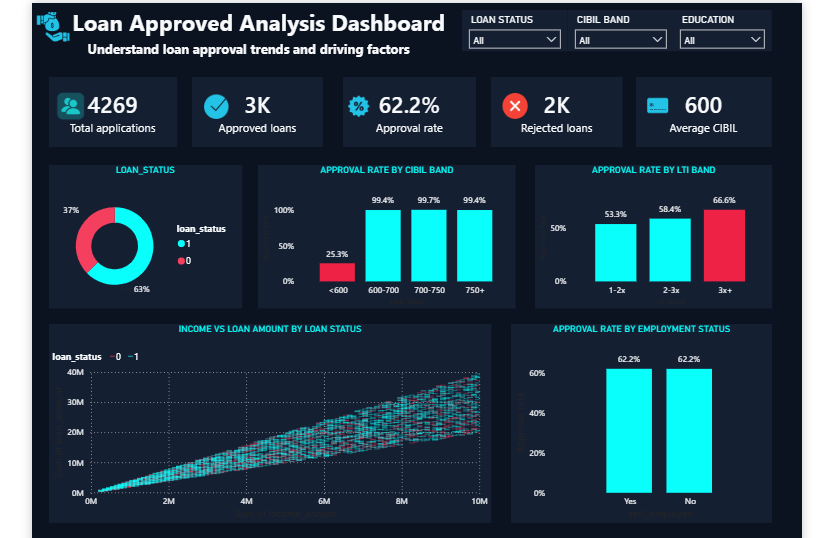

This screenshot's page, from the dashboard's own definition file:
{"tool":"powerbi","page":{"name":"Page 1","canvas":[1100,790],"ordinal":0},"visuals":[{"type":"donutChart","title":"LOAN_STATUS","fields":{"Y":["Sum(loan_cleaned.loan_id)"],"Category":["loan_cleaned.loan_status"]},"box":[24.5,230.9,275.5,205.3],"z":0},{"type":"columnChart","title":"APPROVAL RATE BY CIBIL BAND","fields":{"Category":["loan_cleaned.cibil_band"],"Y":["loan_cleaned.Approval rate"]},"box":[322.3,230.9,368.1,205.3],"z":1000},{"type":"columnChart","title":"APPROVAL RATE BY LTI BAND","fields":{"Category":["loan_cleaned.lti_band"],"Y":["loan_cleaned.Approval rate"]},"box":[718.1,230.9,339.4,205.3],"z":2000},{"type":"scatterChart","title":"INCOME VS LOAN AMOUNT BY LOAN STATUS","fields":{"X":["Sum(loan_cleaned.income_annum)"],"Y":["Sum(loan_cleaned.loan_amount)"],"Series":["loan_cleaned.loan_status"],"Category":["loan_cleaned.loan_id"]},"box":[24.5,458.5,631.9,284],"z":3000},{"type":"columnChart","title":"APPROVAL RATE BY EMPLOYMENT STATUS","fields":{"Category":["loan_cleaned.self_employed"],"Y":["loan_cleaned.Approval rate"]},"box":[684.1,458.7,373,284.1],"z":4000},{"type":"cardVisual","fields":{"Data":["loan_cleaned.Total applications"]},"box":[23.8,106.3,183,100],"z":5000},{"type":"cardVisual","fields":{"Data":["loan_cleaned.Approved loans"]},"box":[228.6,106.3,187.2,100],"z":6000},{"type":"cardVisual","fields":{"Data":["loan_cleaned.Rejected loans"]},"box":[655.6,106.3,188.3,100],"z":7000},{"type":"cardVisual","fields":{"Data":["loan_cleaned.Approval rate"]},"box":[444.4,106.3,190.4,100],"z":8000},{"type":"cardVisual","fields":{"Data":["loan_cleaned.Average CIBIL"]},"box":[863.5,106.3,193.6,100],"z":9000},{"type":"textbox","box":[0,0,614.3,95.2],"z":10000},{"type":"slicer","fields":{"Values":["loan_cleaned.loan_status"]},"box":[614.3,9.5,150.8,58.7],"z":11000},{"type":"slicer","fields":{"Values":["loan_cleaned.education"]},"box":[915.9,9.5,141.3,58.7],"z":12000},{"type":"slicer","fields":{"Values":["loan_cleaned.cibil_band"]},"box":[765.1,9.5,150.8,58.7],"z":13000},{"type":"image","box":[23.8,123.8,61.9,46],"z":13001},{"type":"image","box":[666.7,128.6,46,36.5],"z":13003},{"type":"image","box":[444.4,130.2,44.4,34.9],"z":13004},{"type":"image","box":[863.5,131.7,61.9,30.2],"z":13005},{"type":"image","box":[244.4,127,38.1,41.3],"z":13006},{"type":"image","box":[6.3,9.5,49.2,47.6],"z":13007},{"type":"textbox","box":[74.6,47.6,507.9,47.6],"z":13008}]}

Visuals, with their boxes on the page's 1100x790 design canvas (x1, y1, x2, y2). These are canvas units, not pixel positions in the 826x538 screenshot, which may show the page scaled, cropped or inside an application window:
"LOAN_STATUS" donutChart: 24 231 300 436
"APPROVAL RATE BY CIBIL BAND" columnChart: 322 231 690 436
"APPROVAL RATE BY LTI BAND" columnChart: 718 231 1058 436
"INCOME VS LOAN AMOUNT BY LOAN STATUS" scatterChart: 24 458 656 742
"APPROVAL RATE BY EMPLOYMENT STATUS" columnChart: 684 459 1057 743
cardVisual - loan_cleaned.Total applications: 24 106 207 206
cardVisual - loan_cleaned.Approved loans: 229 106 416 206
cardVisual - loan_cleaned.Rejected loans: 656 106 844 206
cardVisual - loan_cleaned.Approval rate: 444 106 635 206
cardVisual - loan_cleaned.Average CIBIL: 864 106 1057 206
textbox: 0 0 614 95
slicer - loan_cleaned.loan_status: 614 10 765 68
slicer - loan_cleaned.education: 916 10 1057 68
slicer - loan_cleaned.cibil_band: 765 10 916 68
image: 24 124 86 170
image: 667 129 713 165
image: 444 130 489 165
image: 864 132 925 162
image: 244 127 282 168
image: 6 10 56 57
textbox: 75 48 582 95
